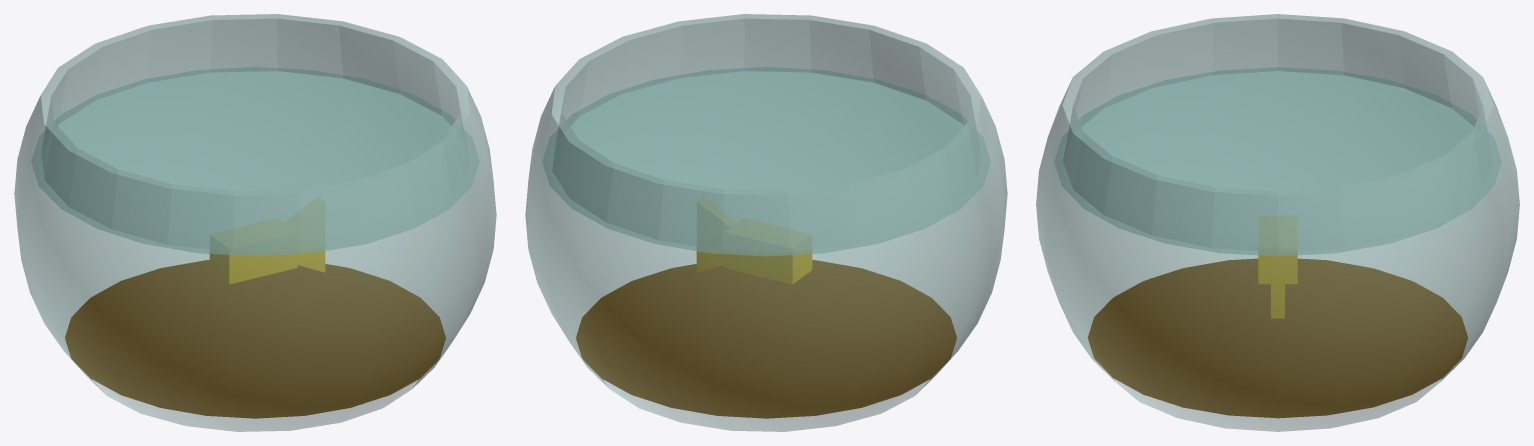
Rendered from vissenkom_v2.fbx.
3 views of the same model, side by side, from view 1: azimuth 30°, elevation 25°; view 2: azimuth 150°, elevation 25°; view 3: azimuth 270°, elevation 25° (orthographic).
Parts seen in each view (by area): view 1: vissenkom_v2; view 2: vissenkom_v2; view 3: vissenkom_v2.
Boxes of the visible parts, <box> form: vissenkom_v2: <box>14,14,496,431</box>; vissenkom_v2: <box>525,14,1007,431</box>; vissenkom_v2: <box>1036,14,1519,431</box>.
Bounding box in the file's own units: 11 × 6.39 × 11.
